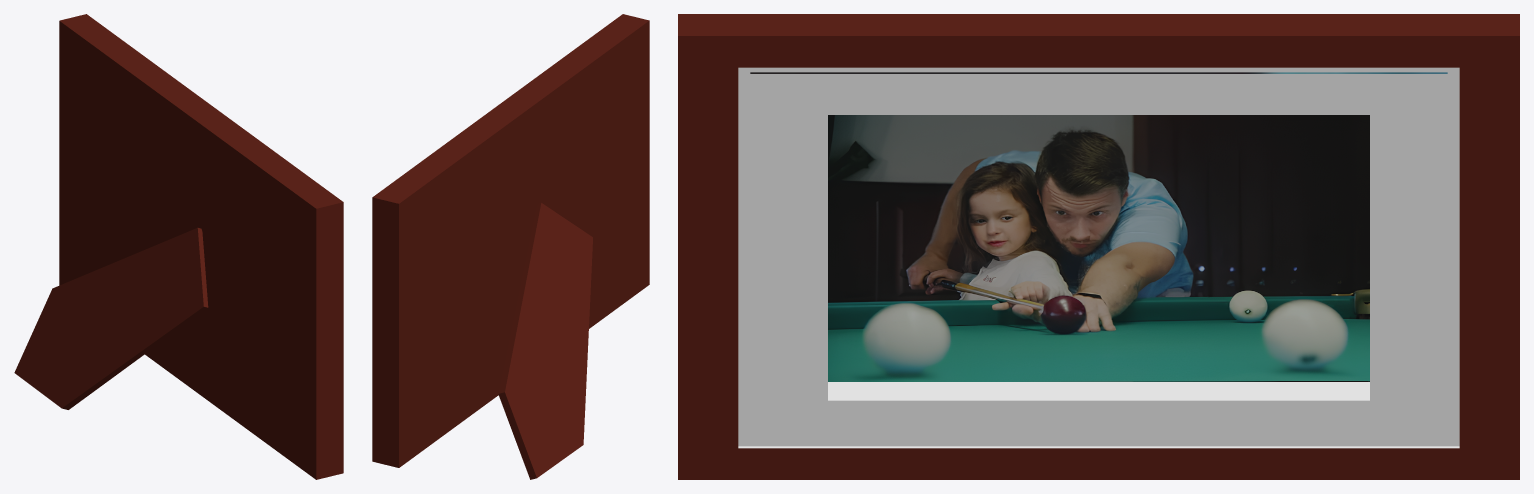
File: cadre.fbx
3 views of the same model, side by side, from view 1: azimuth 30°, elevation 25°; view 2: azimuth 150°, elevation 25°; view 3: azimuth 270°, elevation 25° (orthographic). The views are drawn at different scales.
Parts seen in each view (by area): view 1: Cube, Cube.001; view 2: Cube, Cube.001; view 3: Cube.
Part boxes in pixels (x1=…): Cube: x1=59, y1=14, x2=343, y2=479; Cube.001: x1=14, y1=227, x2=208, y2=409; Cube: x1=372, y1=14, x2=649, y2=467; Cube.001: x1=498, y1=202, x2=592, y2=479; Cube: x1=678, y1=14, x2=1519, y2=479.
Size of the model in its own units: 55.33 by 131 by 204.
Materials: 3 (1 with a texture image).
